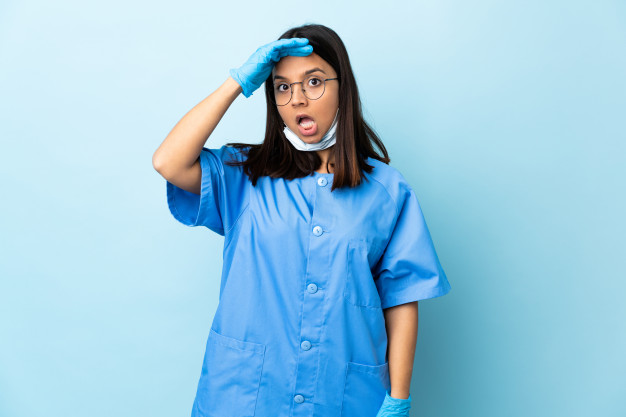mask_weared_incorrect: (269, 55, 344, 156)
